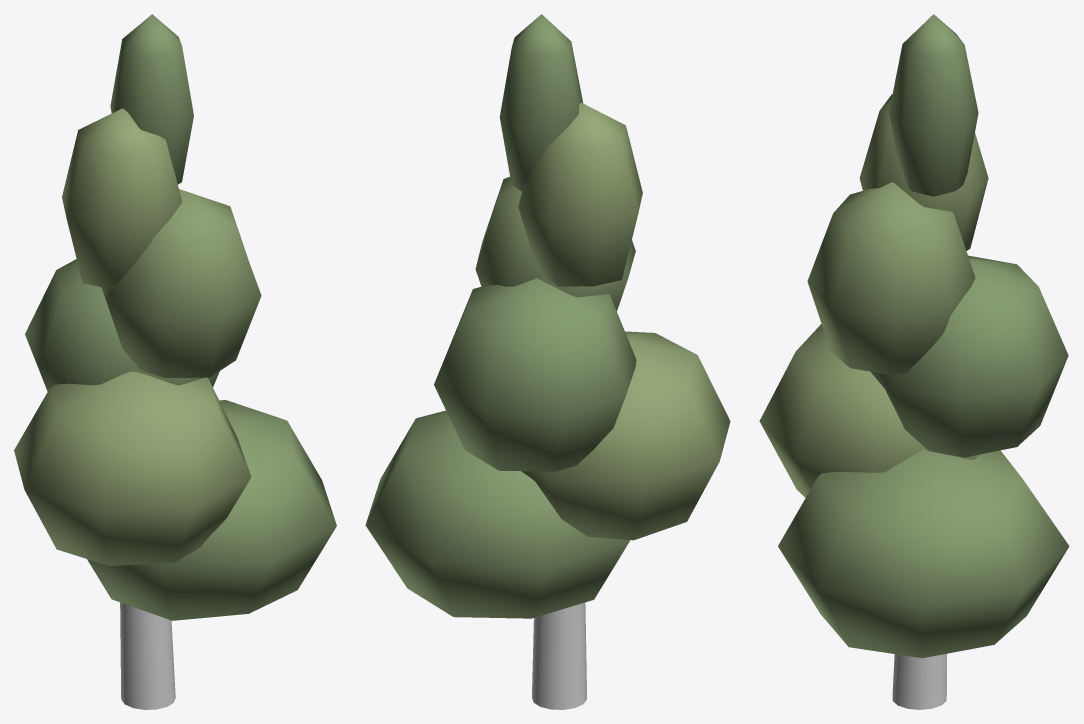
File: pine_v0_near.gltf
3 renders of one model, left to right at view 1: azimuth 30°, elevation 25°; view 2: azimuth 150°, elevation 25°; view 3: azimuth 270°, elevation 25°, orthographic.
Visible parts, largest first — view 1: foliage, bark; view 2: foliage, bark; view 3: foliage, bark.
Part boxes in pixels (box(x1,y1,x2,y2)): foliage: box(14, 14, 336, 620); bark: box(120, 602, 175, 709); foliage: box(365, 14, 730, 618); bark: box(532, 602, 586, 709); foliage: box(759, 14, 1069, 658); bark: box(892, 653, 946, 709).
Size of the model in its own units: 2.94 by 6.01 by 2.45.
